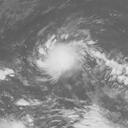cyclone: (34, 31, 93, 87)
